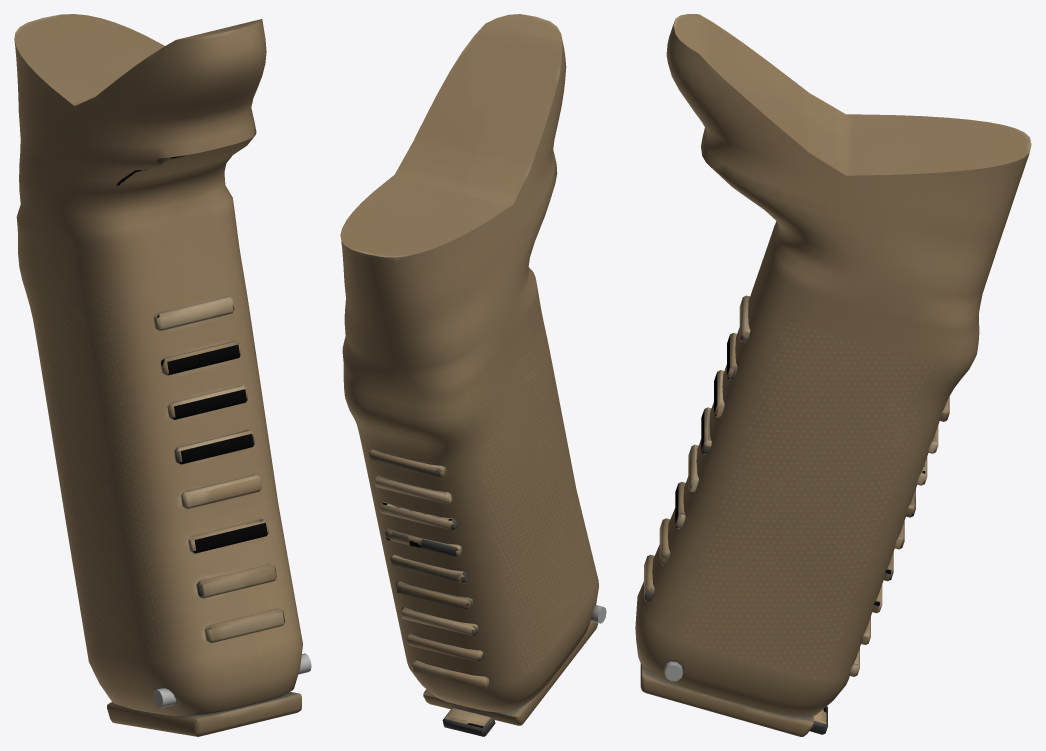
File: punho_reto_tan.glb
3 renders of one model, left to right at view 1: azimuth 30°, elevation 25°; view 2: azimuth 150°, elevation 25°; view 3: azimuth 270°, elevation 25°, orthographic. The views are drawn at different scales.
Visible parts, largest first — view 1: punho_reto_tan_punho; view 2: punho_reto_tan_punho; view 3: punho_reto_tan_punho.
Boxes of the visible parts, <box> form: punho_reto_tan_punho: <box>14,14,311,736</box>; punho_reto_tan_punho: <box>340,14,606,736</box>; punho_reto_tan_punho: <box>635,14,1031,736</box>.
Bounding box in the file's own units: 0.0269 × 0.126 × 0.0647.
Materials: 1 (1 with a texture image).
